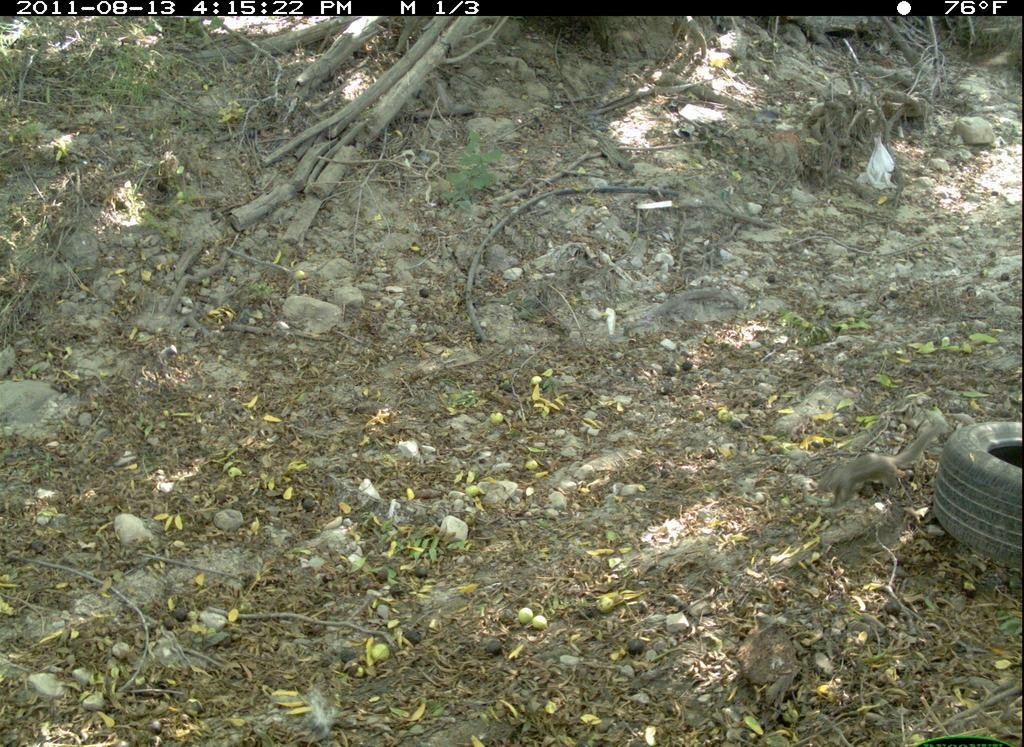squirrel: (809, 420, 946, 524)
